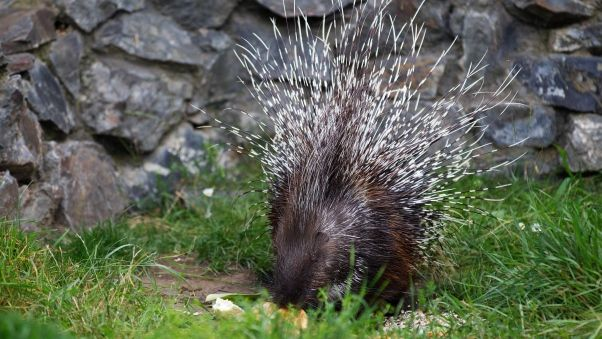porcupine: (192, 3, 530, 316)
